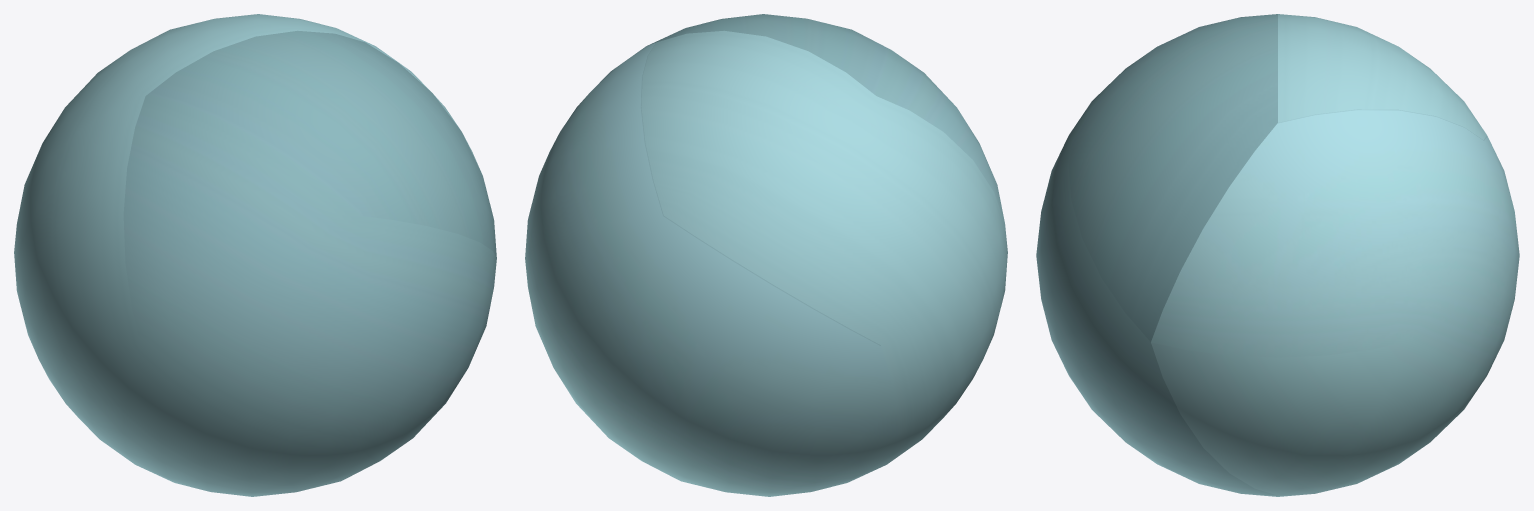
File: uranus.glb
3 renders of one model, left to right at view 1: azimuth 30°, elevation 25°; view 2: azimuth 150°, elevation 25°; view 3: azimuth 270°, elevation 25°, orthographic.
Visible parts, largest first — view 1: Sphere; view 2: Sphere; view 3: Sphere.
Boxes of the visible parts, x1=… form: Sphere: x1=14, y1=14, x2=496, y2=496; Sphere: x1=525, y1=14, x2=1007, y2=496; Sphere: x1=1036, y1=14, x2=1519, y2=496.
Bounding box in the file's own units: 200 × 200 × 200.
1 material, 1 textured.
